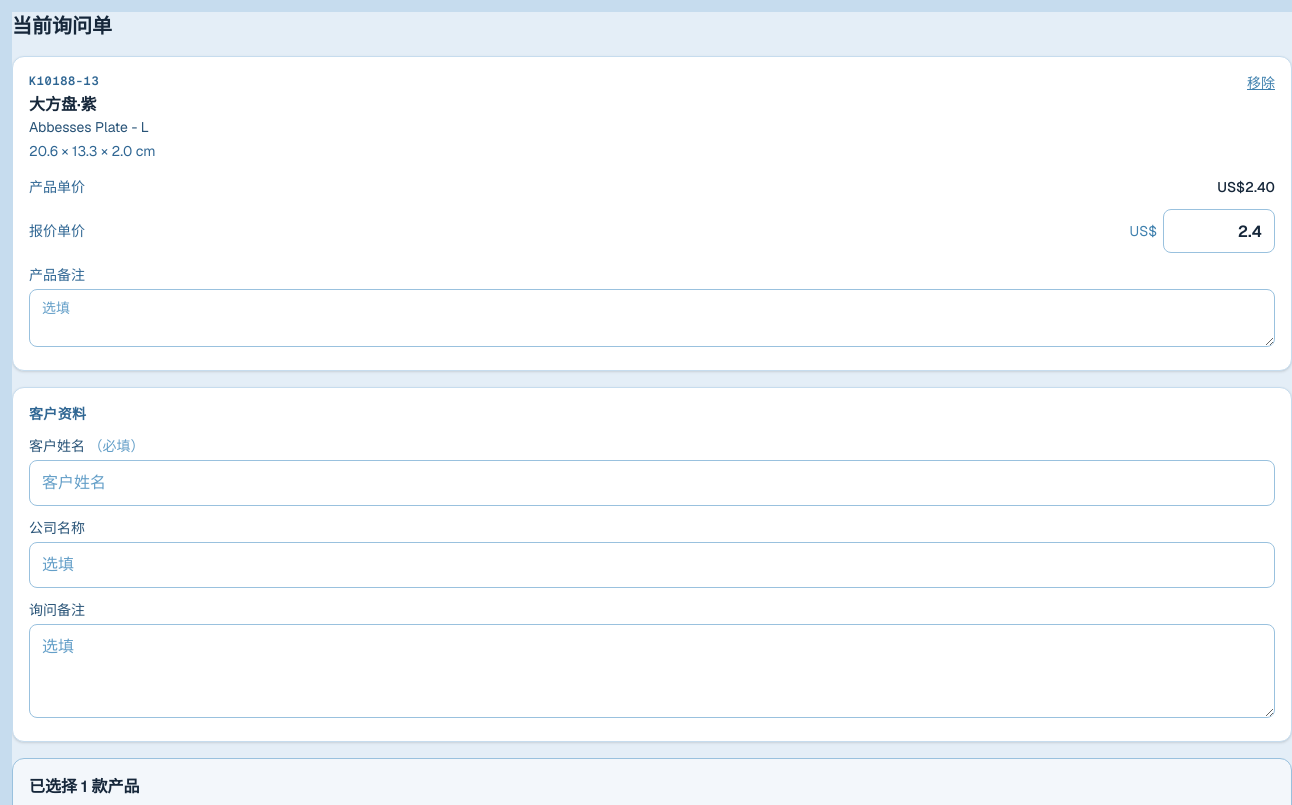
Test: inquiry editor before submission › rejects a negative quoted price in the editor
In the field labelled "客户姓名 （必填）": [652, 483] box [29, 460, 1275, 506], type "Ada"
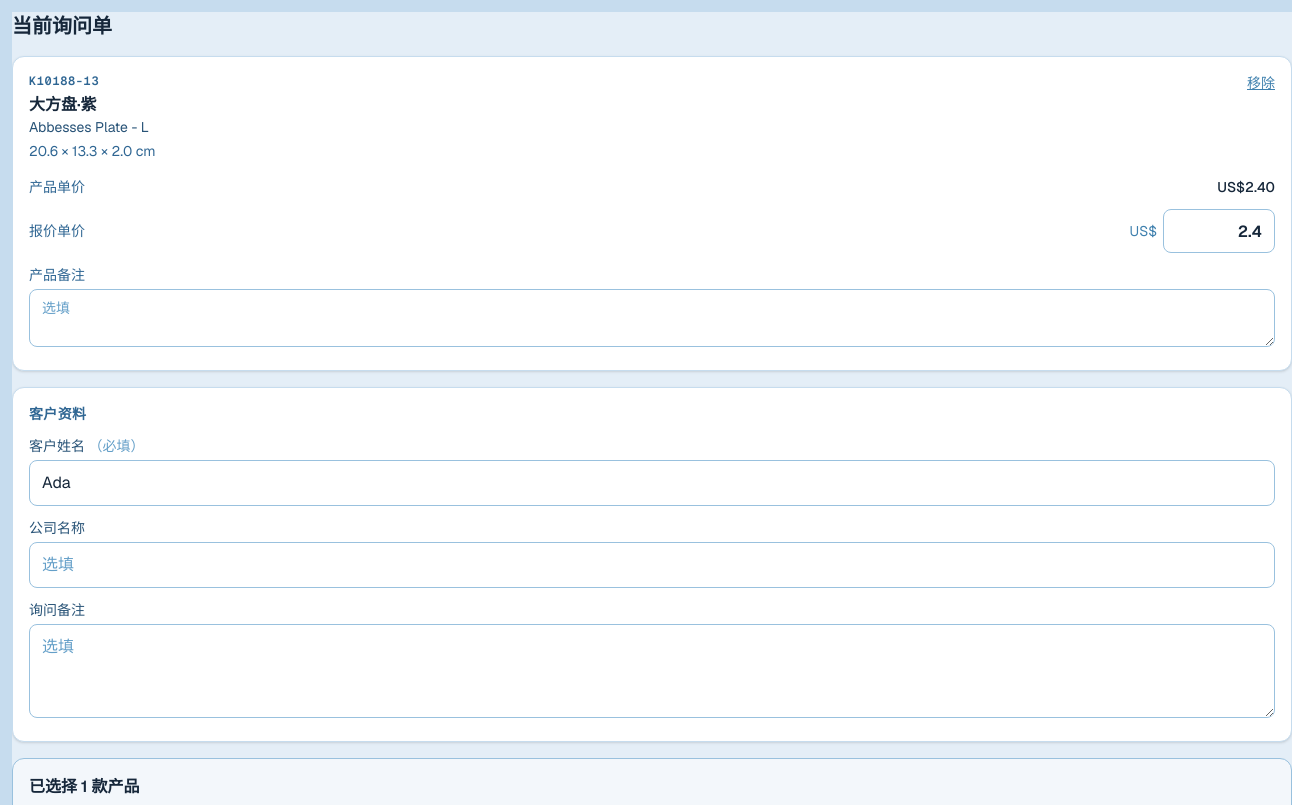
Replace the text in the field labelled "报价单价" with "-1": [1219, 231] box [1163, 209, 1275, 253]
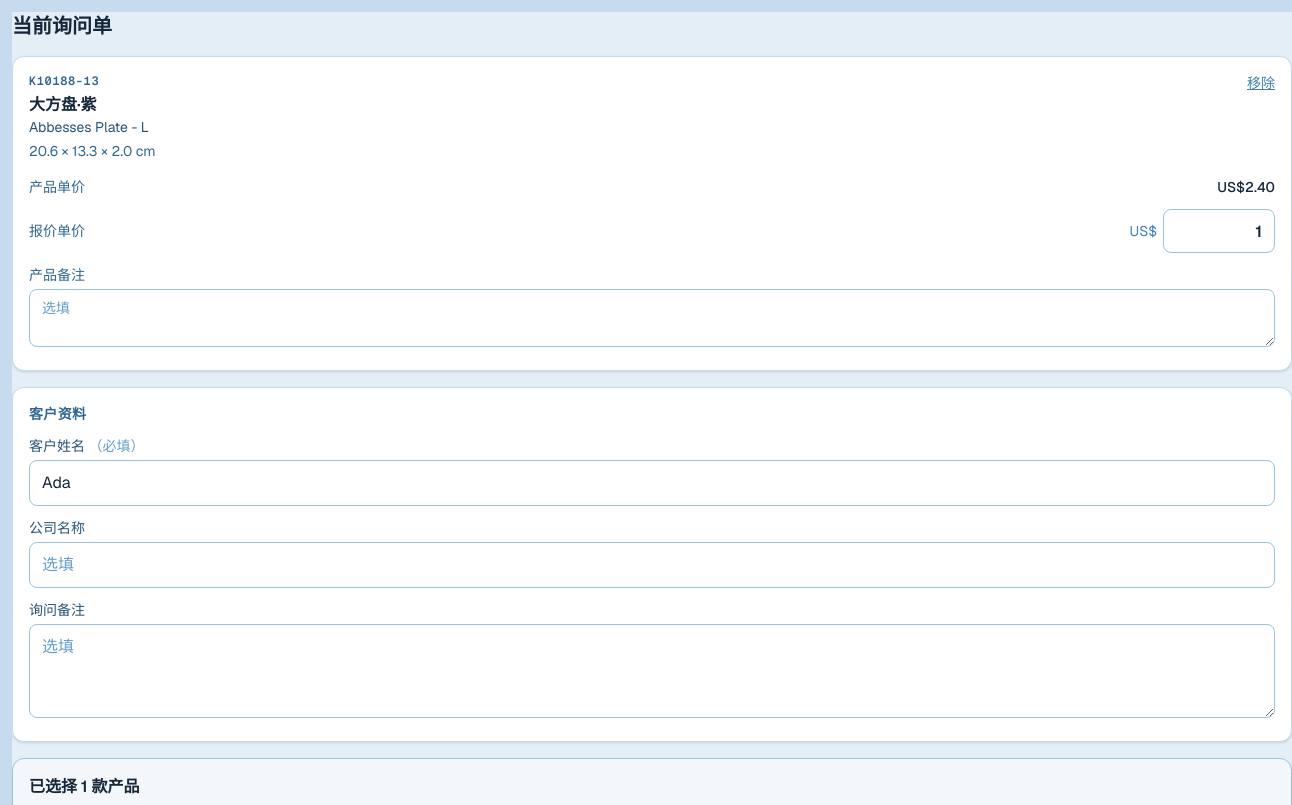
expect the field labelled "报价单价" does not hold "-1": met, box [1163, 209, 1275, 253]
